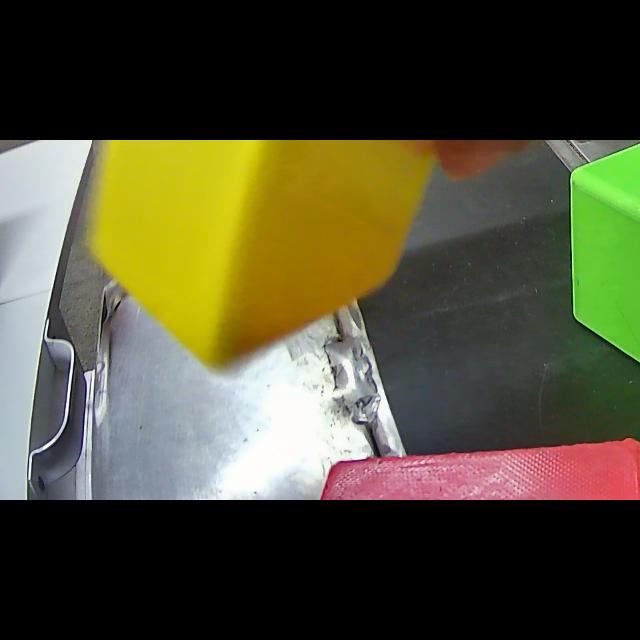greenBox: (564, 140, 640, 434)
redBox: (318, 426, 640, 500)
yellowBox: (73, 140, 525, 378)
